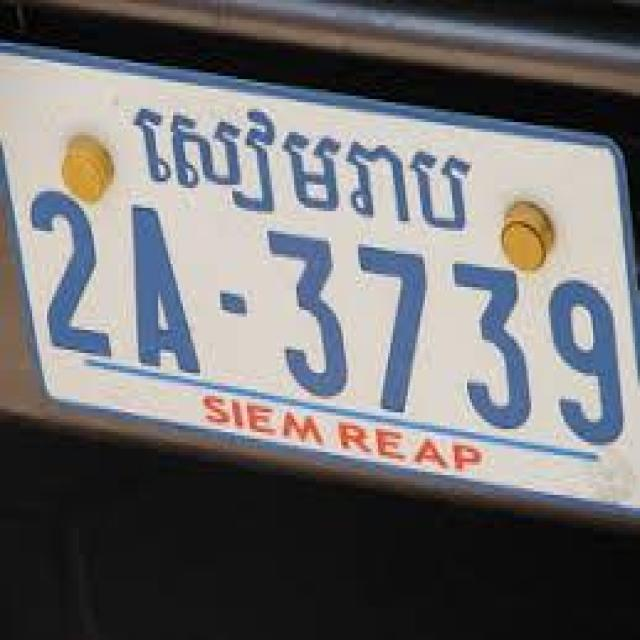Siem_Reap: (133, 96, 472, 236)
